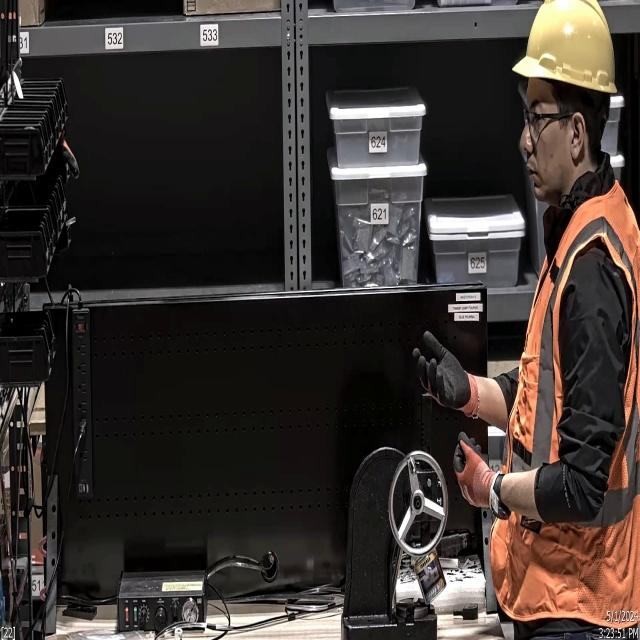construction-gloves: (408, 324, 490, 423), (450, 426, 507, 520)
